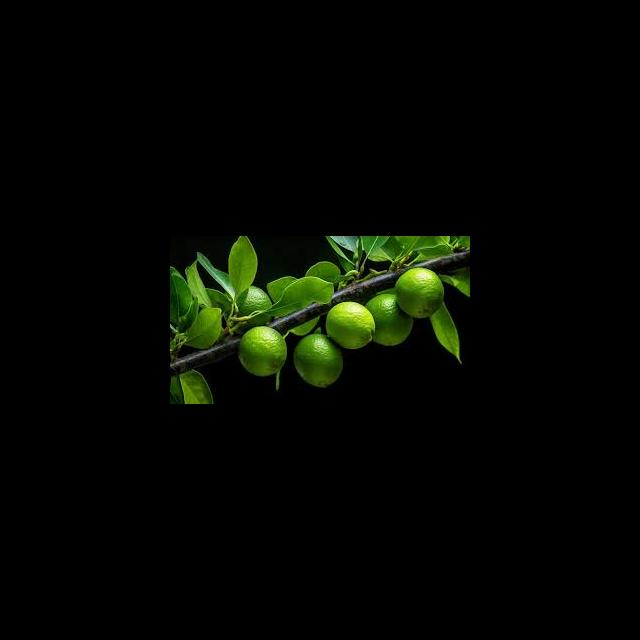lime: (292, 334, 345, 390), (363, 289, 414, 347), (237, 326, 288, 381), (394, 268, 445, 319), (323, 302, 376, 350), (236, 286, 273, 316)
